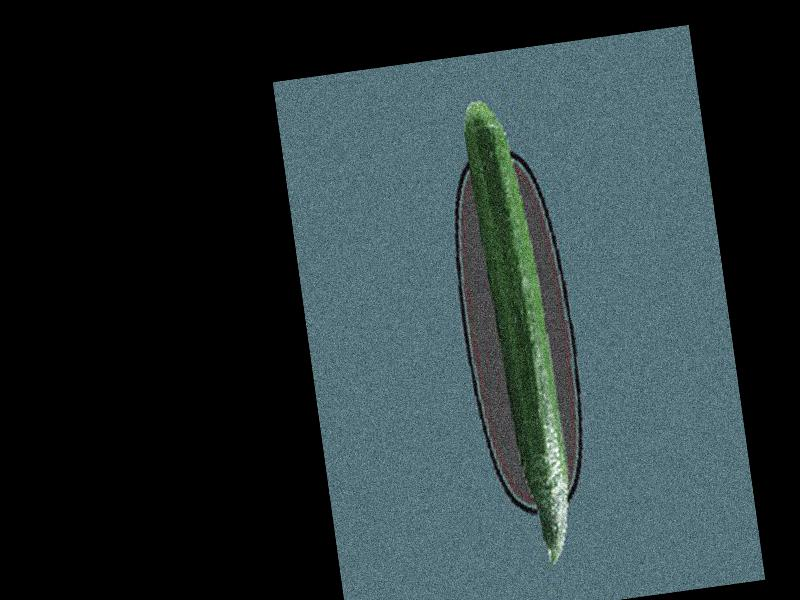Cucumber: (458, 94, 579, 568)
